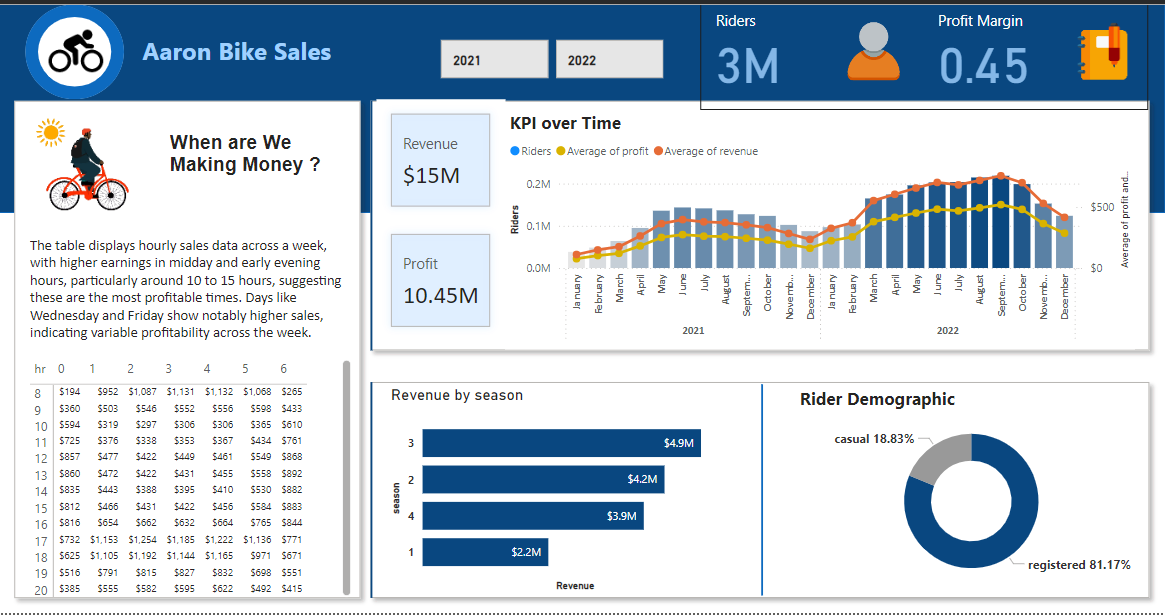

The page's visual inventory and layout, read from the dashboard file:
{"tool":"powerbi","page":{"name":"Report & Dashboard","canvas":[1280,720],"ordinal":0},"visuals":[{"type":"shape","box":[0,0,1280.3,279.9],"z":0},{"type":"cardVisual","fields":{"Data":["Query1.riders"]},"box":[0,111.3,414.1,608.9],"z":1000},{"type":"pivotTable","fields":{"Rows":["Query1.hr"],"Values":["Query1.revenue"],"Columns":["Query1.weekday"]},"box":[28.8,436.4,362.3,270.3],"z":2000},{"type":"cardVisual","fields":{"Data":["Query1.riders"]},"box":[15.6,124.7,154.7,148.1],"z":3000},{"type":"cardVisual","fields":{"Data":["Query1.riders"]},"box":[391.1,448.7,889.2,271.7],"z":4000},{"type":"textbox","box":[170.3,155.8,184.8,87.9],"z":5000},{"type":"textbox","box":[28.9,272.7,361.8,129.1],"z":6000},{"type":"cardVisual","fields":{"Data":["Query1.riders"]},"box":[390.7,111.3,889.4,337.3],"z":7000},{"type":"lineClusteredColumnComboChart","title":"KPI over Time","fields":{"Category":["Query1.dteday.Variation.Date Hierarchy.Year","Query1.dteday.Variation.Date Hierarchy.Month","Query1.dteday.Variation.Date Hierarchy.Day"],"Y":["Query1.riders"],"Y2":["Query1.profit","Query1.revenue"]},"box":[555.5,140.3,692.4,289.4],"z":8000},{"type":"clusteredBarChart","fields":{"Category":["Query1.season"],"Y":["Query1.revenue"]},"box":[425.4,469.3,380.1,230.5],"z":9000},{"type":"donutChart","title":"Rider Demographic","fields":{"Category":["Query1.rider_type"],"Y":["Query1.riders"]},"box":[874.1,470.7,387,226.4],"z":10000},{"type":"shape","box":[823.3,467.9,28.8,231.9],"z":11000},{"type":"cardVisual","title":"KPI over Time","fields":{"Data":["Query1.revenue","Query1.profit"]},"box":[414.1,135.8,141.4,285],"z":11001},{"type":"cardVisual","fields":{"Data":["Query1.riders","Query1.Profit Margin"]},"box":[779.2,7.8,482,103.5],"z":11002},{"type":"shape","box":[39,7.8,108,103.5],"z":11003},{"type":"textbox","box":[158.1,25.6,288.3,76.8],"z":11005},{"type":"advancedSlicerVisual","fields":{"Values":["Query1.Years"]},"box":[459.7,25.6,256,52.3],"z":11006},{"type":"image","box":[56.8,25.6,72.4,70.1],"z":11007}]}

Visuals, with their boxes on the page's 1280x720 design canvas (x1, y1, x2, y2). These are canvas units, not pixel positions in the 1165x616 screenshot, which may show the page scaled, cropped or inside an application window:
shape: {"left": 0, "top": 0, "right": 1280, "bottom": 280}
cardVisual - Query1.riders: {"left": 0, "top": 111, "right": 414, "bottom": 720}
pivotTable - Query1.hr x Query1.revenue: {"left": 29, "top": 436, "right": 391, "bottom": 707}
cardVisual - Query1.riders: {"left": 16, "top": 125, "right": 170, "bottom": 273}
cardVisual - Query1.riders: {"left": 391, "top": 449, "right": 1280, "bottom": 720}
textbox: {"left": 170, "top": 156, "right": 355, "bottom": 244}
textbox: {"left": 29, "top": 273, "right": 391, "bottom": 402}
cardVisual - Query1.riders: {"left": 391, "top": 111, "right": 1280, "bottom": 449}
"KPI over Time" lineClusteredColumnComboChart: {"left": 556, "top": 140, "right": 1248, "bottom": 430}
clusteredBarChart - Query1.season x Query1.revenue: {"left": 425, "top": 469, "right": 806, "bottom": 700}
"Rider Demographic" donutChart: {"left": 874, "top": 471, "right": 1261, "bottom": 697}
shape: {"left": 823, "top": 468, "right": 852, "bottom": 700}
"KPI over Time" cardVisual: {"left": 414, "top": 136, "right": 556, "bottom": 421}
cardVisual - Query1.riders x Query1.Profit Margin: {"left": 779, "top": 8, "right": 1261, "bottom": 111}
shape: {"left": 39, "top": 8, "right": 147, "bottom": 111}
textbox: {"left": 158, "top": 26, "right": 446, "bottom": 102}
advancedSlicerVisual - Query1.Years: {"left": 460, "top": 26, "right": 716, "bottom": 78}
image: {"left": 57, "top": 26, "right": 129, "bottom": 96}
